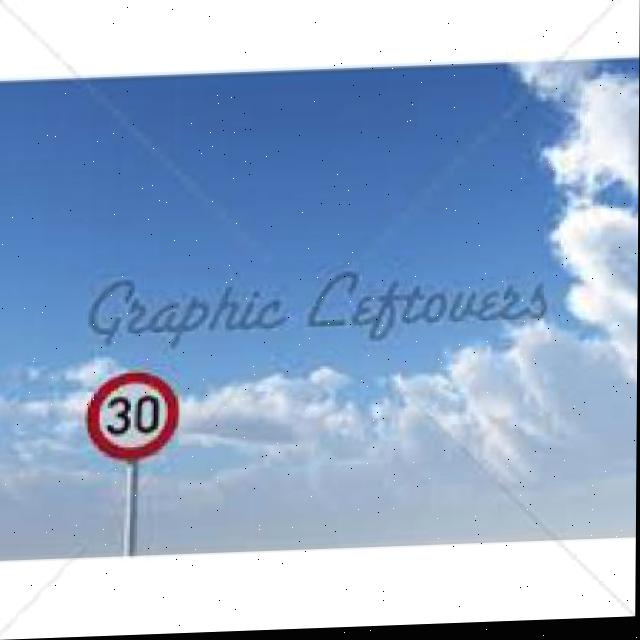Speed limit 30: (83, 368, 183, 466)
